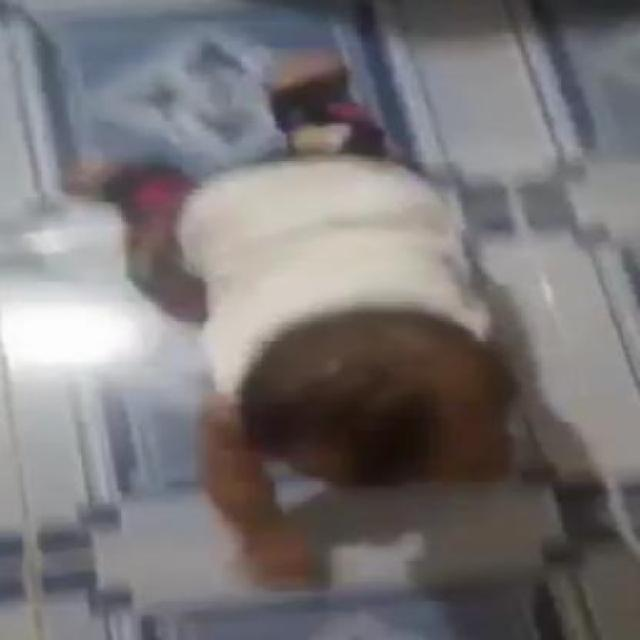baby: (66, 60, 520, 592)
